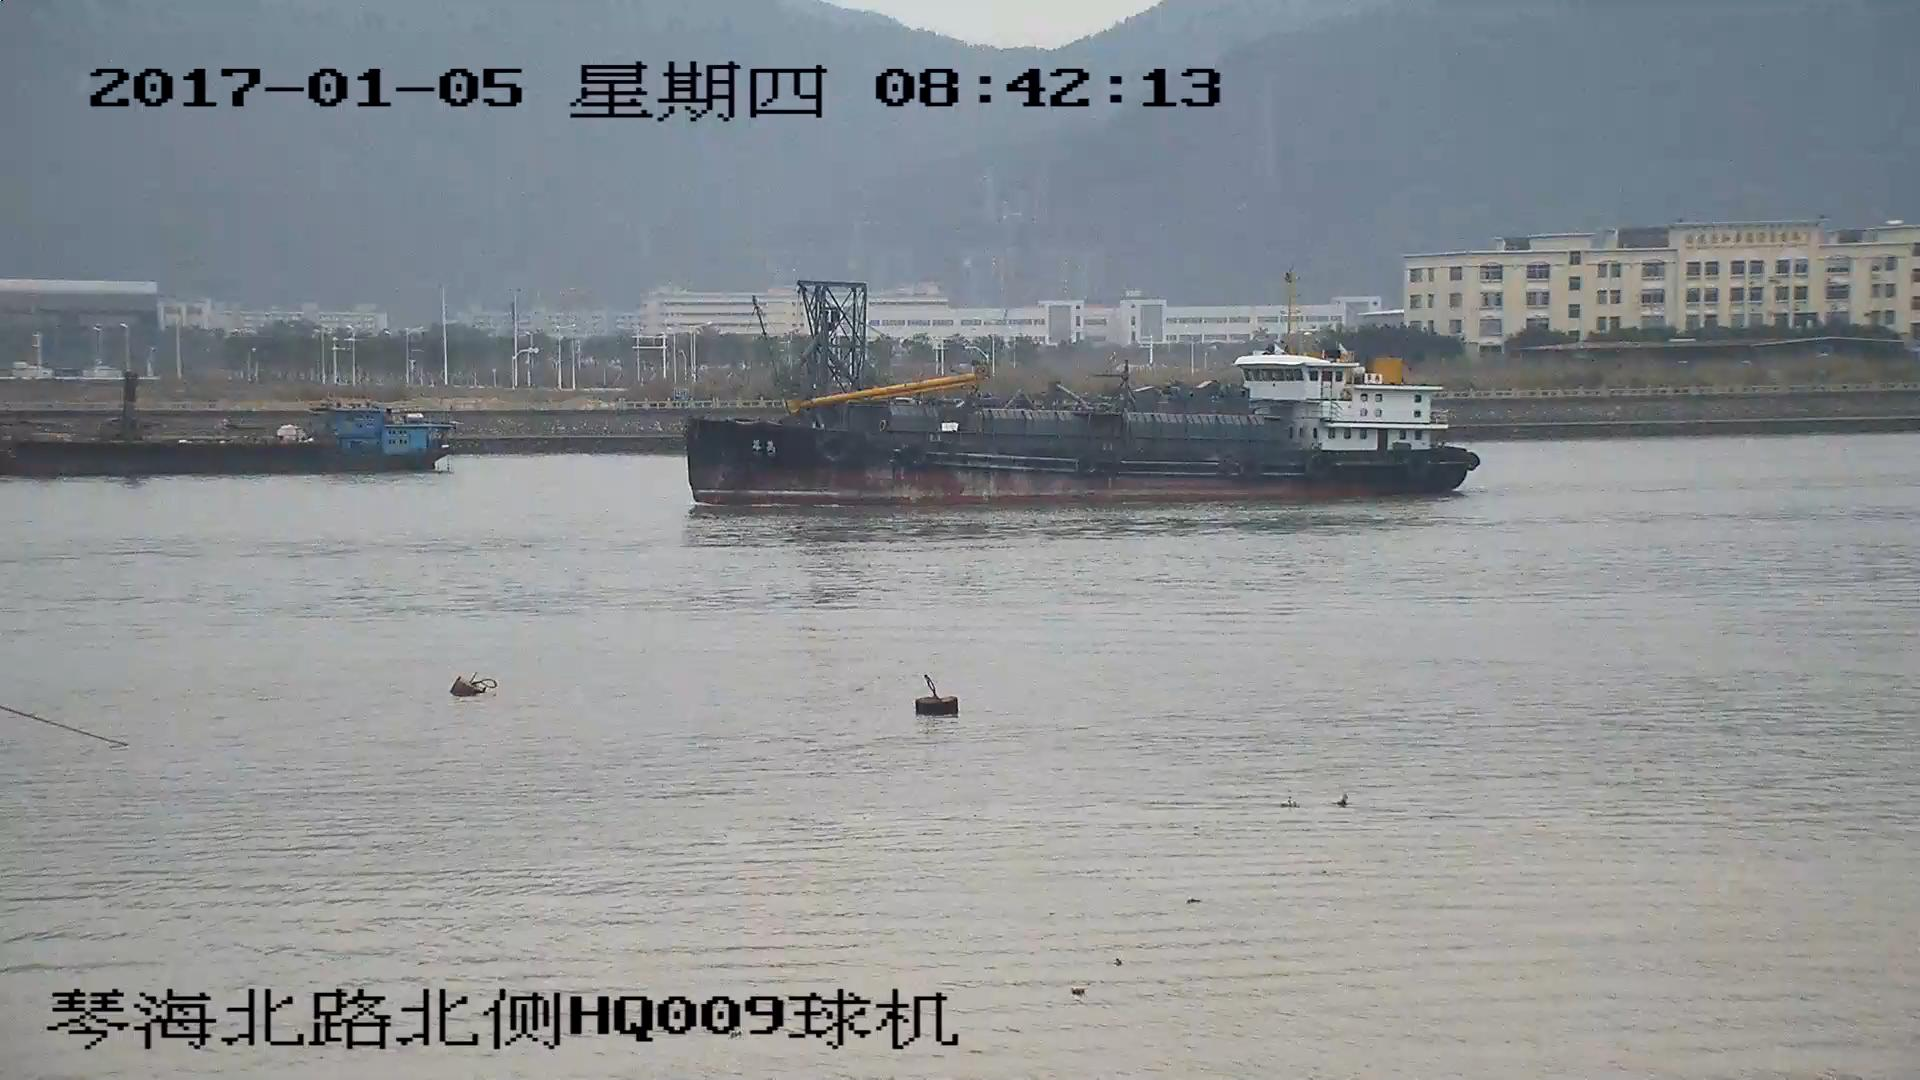bulk cargo carrier: (684, 285, 1475, 499)
